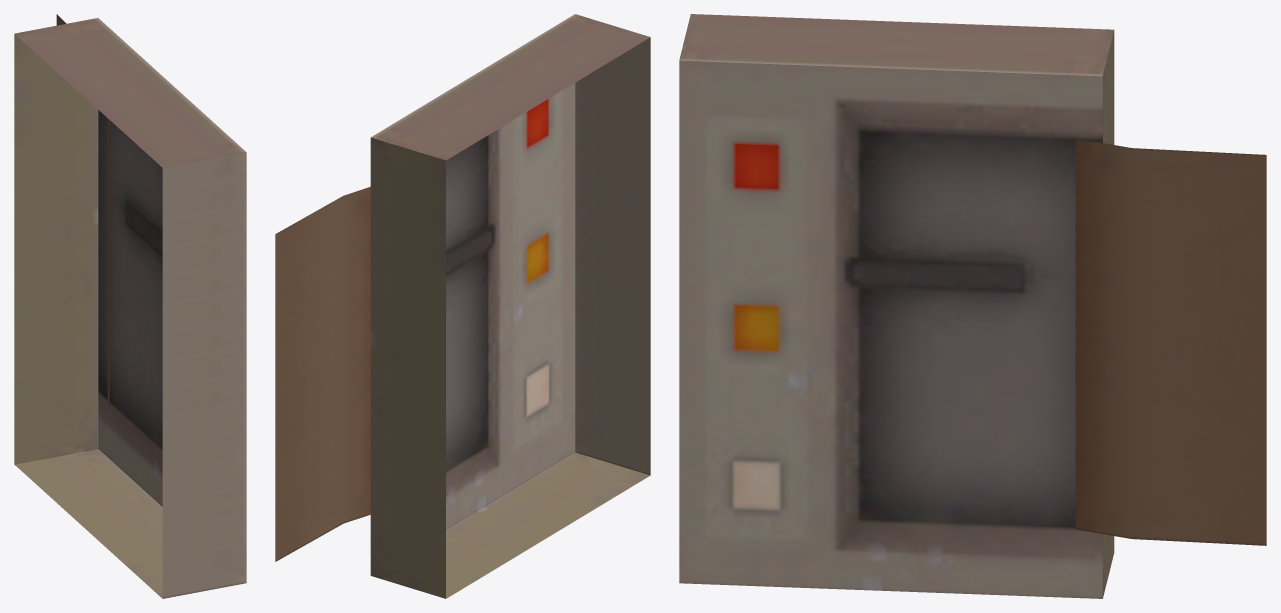
Rendered from sundries_29_0a7db308__ZombiesII_depot_diffuse_07_f609ceb1_c1f257.obj.
3 renders of one model, left to right at view 1: azimuth 30°, elevation 25°; view 2: azimuth 150°, elevation 25°; view 3: azimuth 270°, elevation 25°, orthographic. The views are drawn at different scales.
Size of the model in its own units: 0.5359 by 1.68 by 1.71.
1 material, 1 textured.
